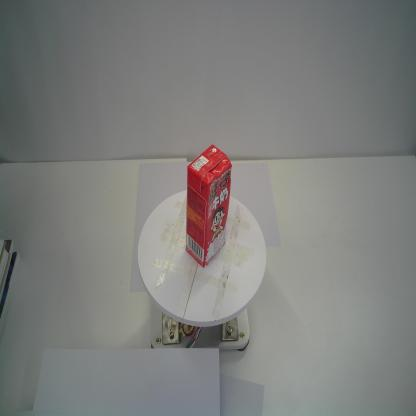Milk: (184, 142, 233, 269)
